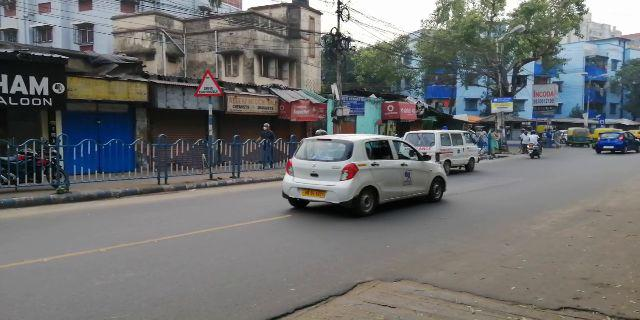Car: (284, 137, 448, 215), (596, 129, 632, 157)
Van: (413, 130, 479, 169)
